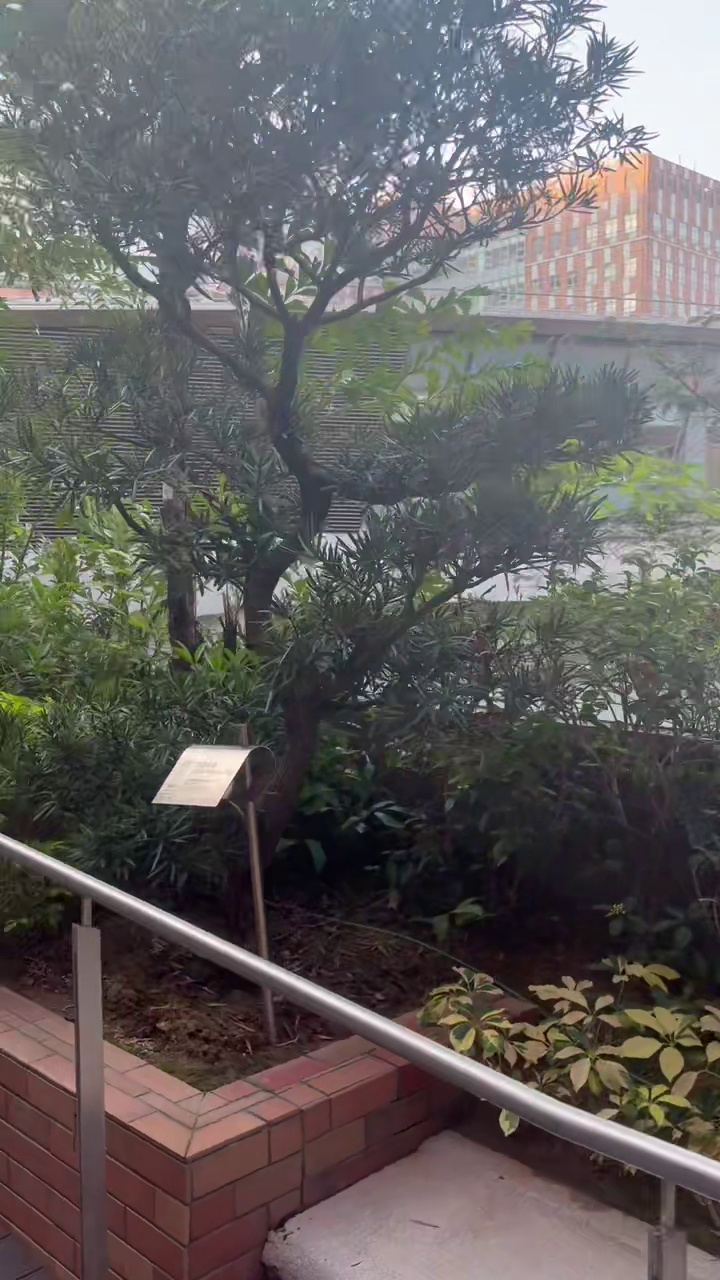Podocarpus macrophyllus: (0, 0, 644, 855)
